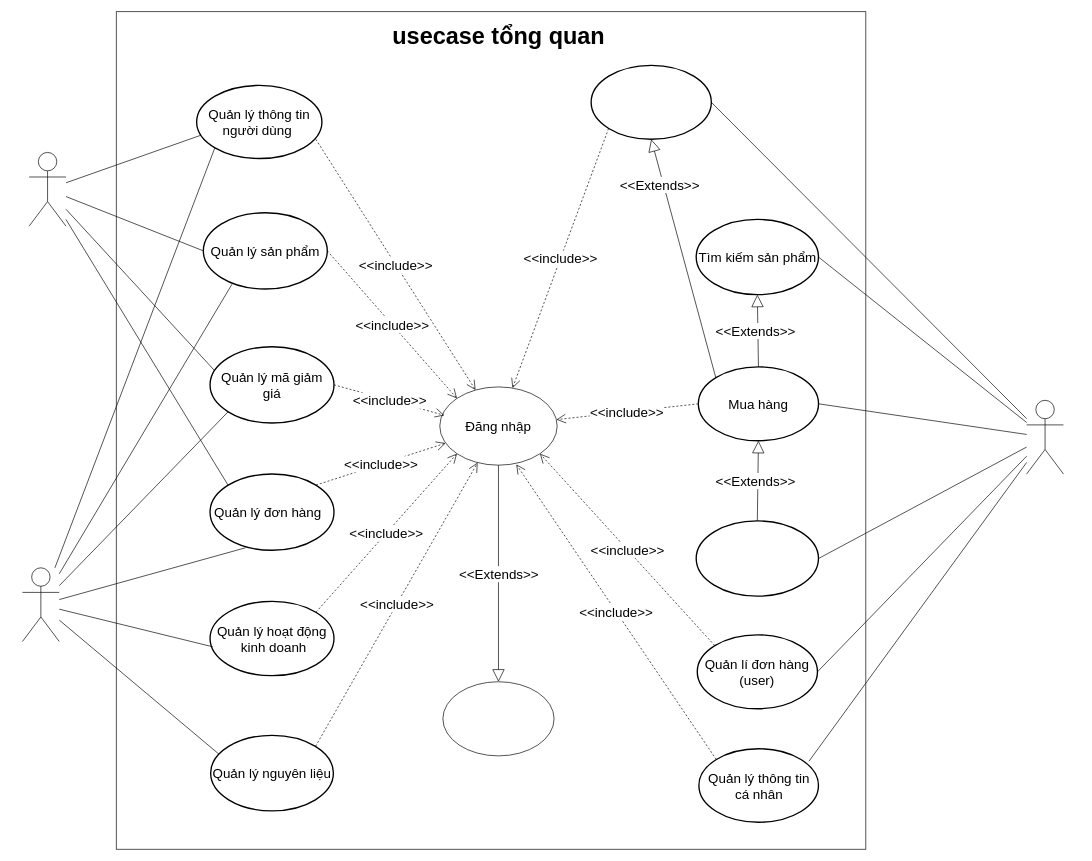
The diagram is 1092 pixels wide and 861 high, and some of its shapes have lost their labels. Each missing label, with the centre of its shape:
Chủ quán: point 40,604
Khách hàng: point 1044,437
Nhân viên: point 47,189
Quản lý giỏ hàng: point 651,102
Sử dụng mã giảm giá: point 757,558
Đăng ký: point 498,718
